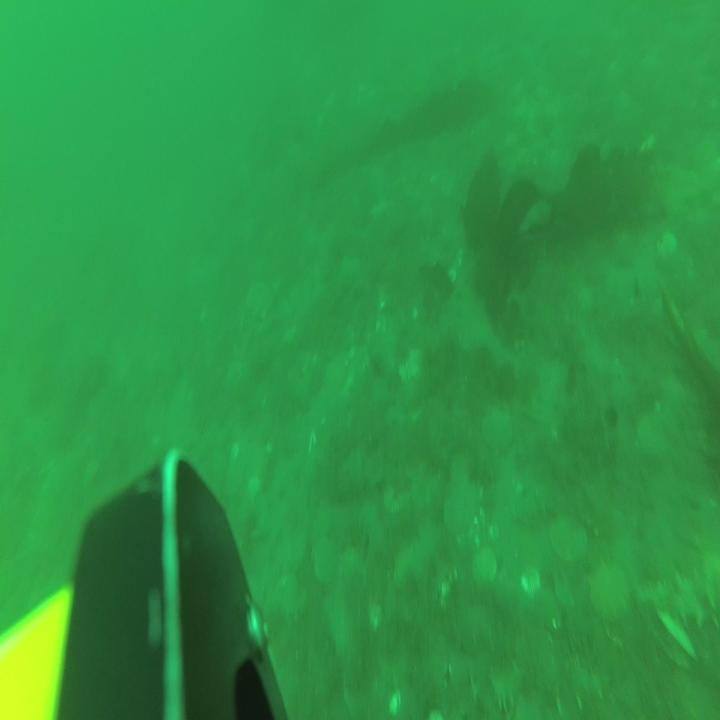holothurian: (636, 570, 720, 631), (539, 644, 603, 711), (486, 663, 525, 714)
scallop: (443, 481, 483, 538), (590, 567, 628, 625), (266, 572, 306, 624), (551, 514, 590, 561), (482, 404, 514, 456), (471, 548, 499, 594)
